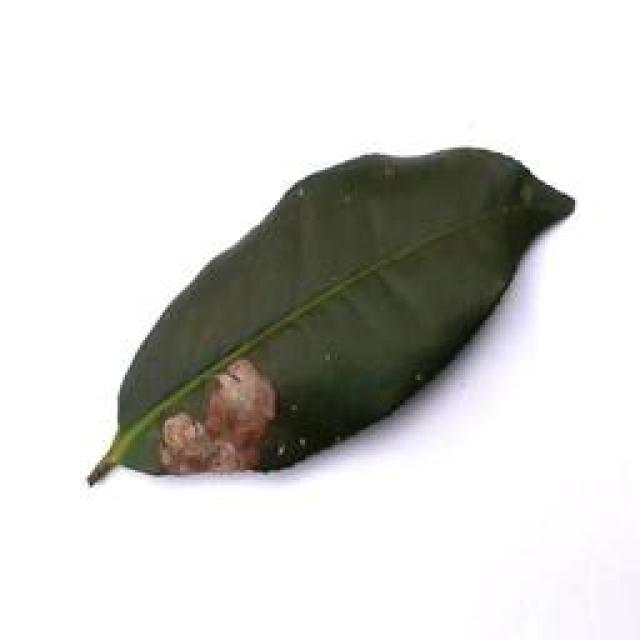Gray Blight: (89, 143, 576, 495)
